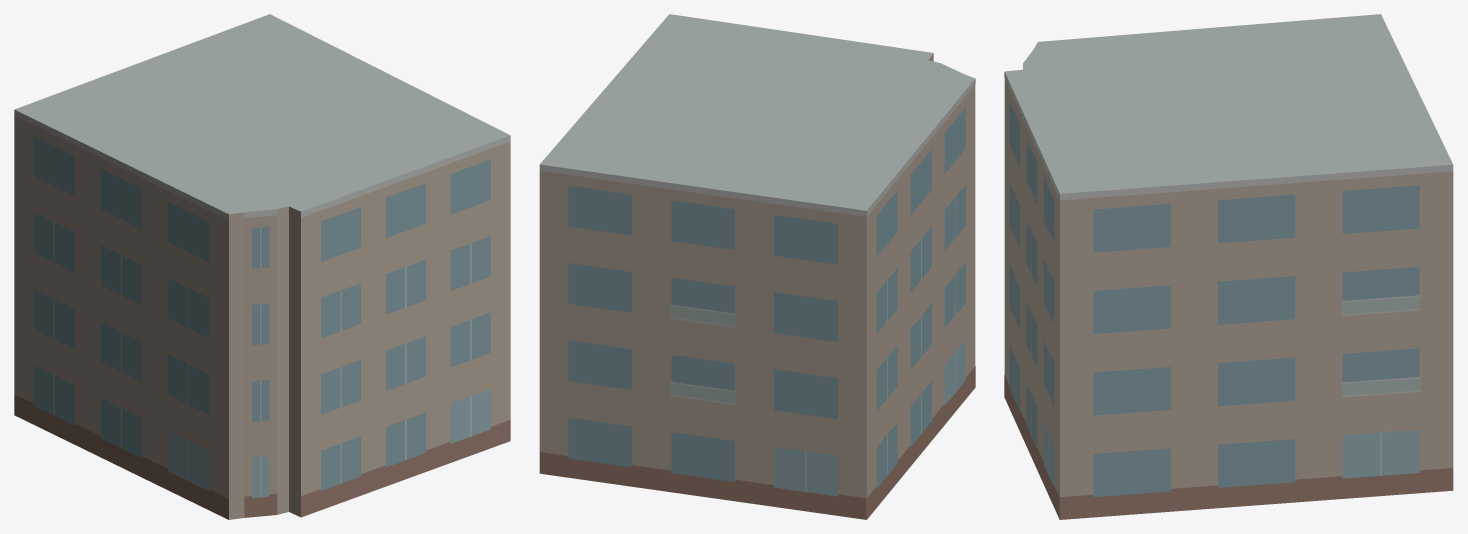
The model's file is survey-upis-32995064.glb.
3 renders of one model, left to right at view 1: azimuth 30°, elevation 25°; view 2: azimuth 150°, elevation 25°; view 3: azimuth 270°, elevation 25°, orthographic. The views are drawn at different scales.
Visible parts, largest first — view 1: survey-upis-32995064.tmp; view 2: survey-upis-32995064.tmp; view 3: survey-upis-32995064.tmp.
Part boxes in pixels (left/top/right/bottom): survey-upis-32995064.tmp: left=14, top=14, right=510, bottom=519; survey-upis-32995064.tmp: left=539, top=14, right=975, bottom=519; survey-upis-32995064.tmp: left=1004, top=14, right=1453, bottom=519.
Size of the model in its own units: 14.45 by 12.2 by 15.24.
